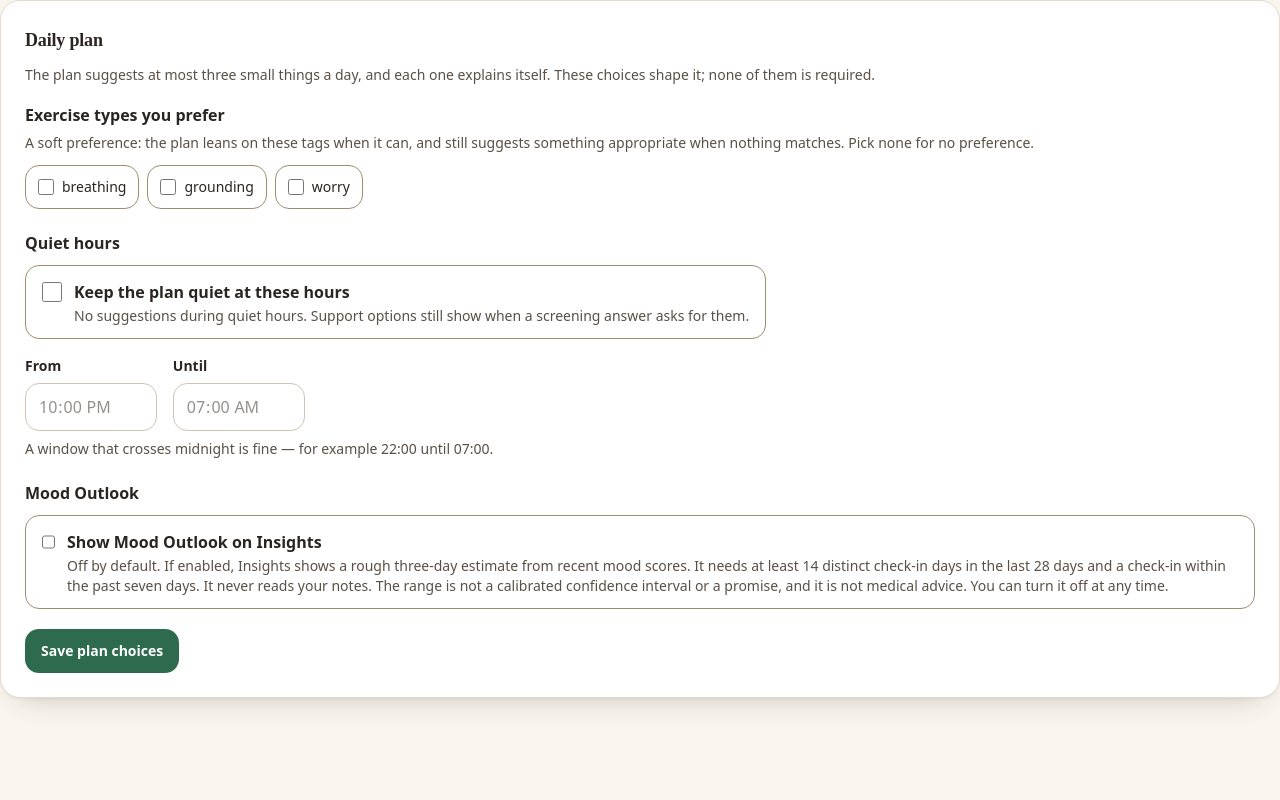
PlanSettingsSection › offers exactly the catalogue's tags and round-trips a choice
The image size is (1280, 800).
Expected: the checkbox with test id "plan-tag-grounding" is shown, [160,178,176,194]
Expected: the checkbox with test id "plan-tag-worry" is shown, [288,178,304,194]
Click the checkbox with test id "plan-tag-breathing": [46, 186] box [38,178,54,194]
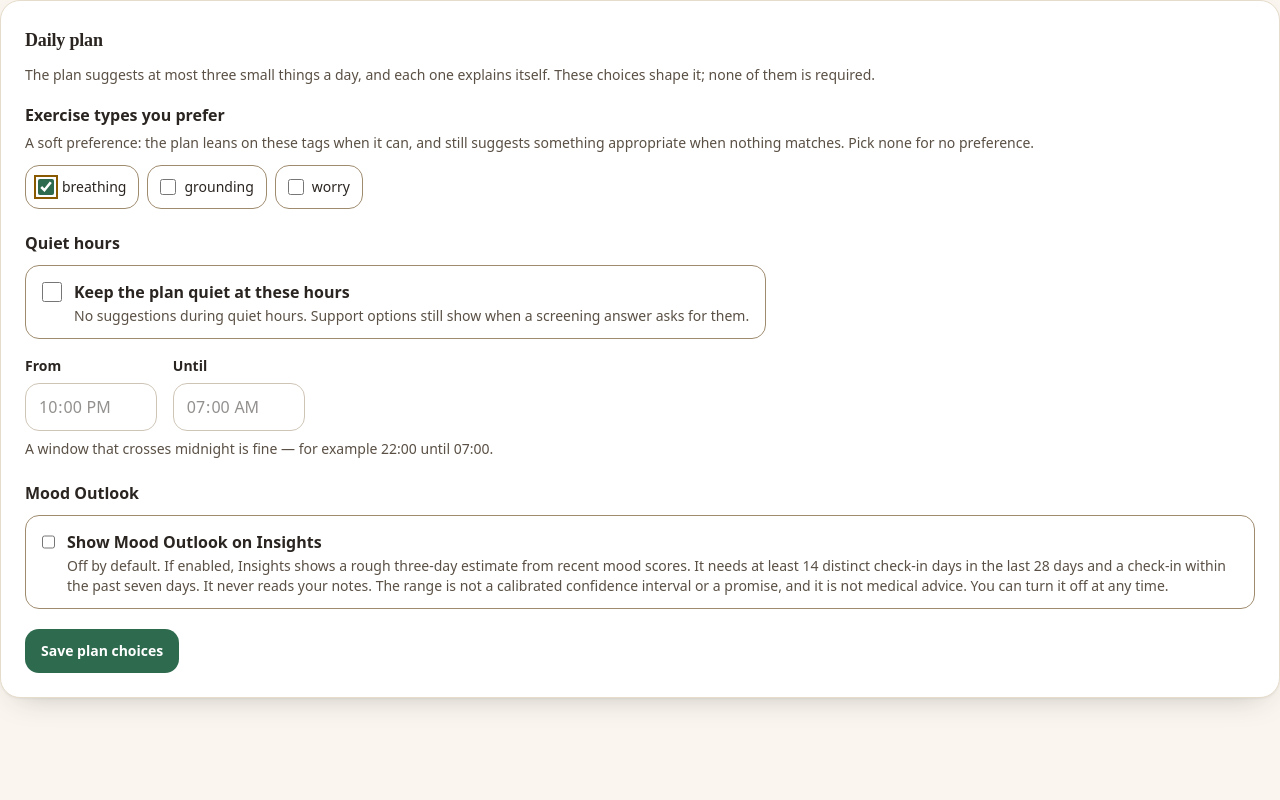
Click the button "Save plan choices": [102, 650] box [25,628,179,672]
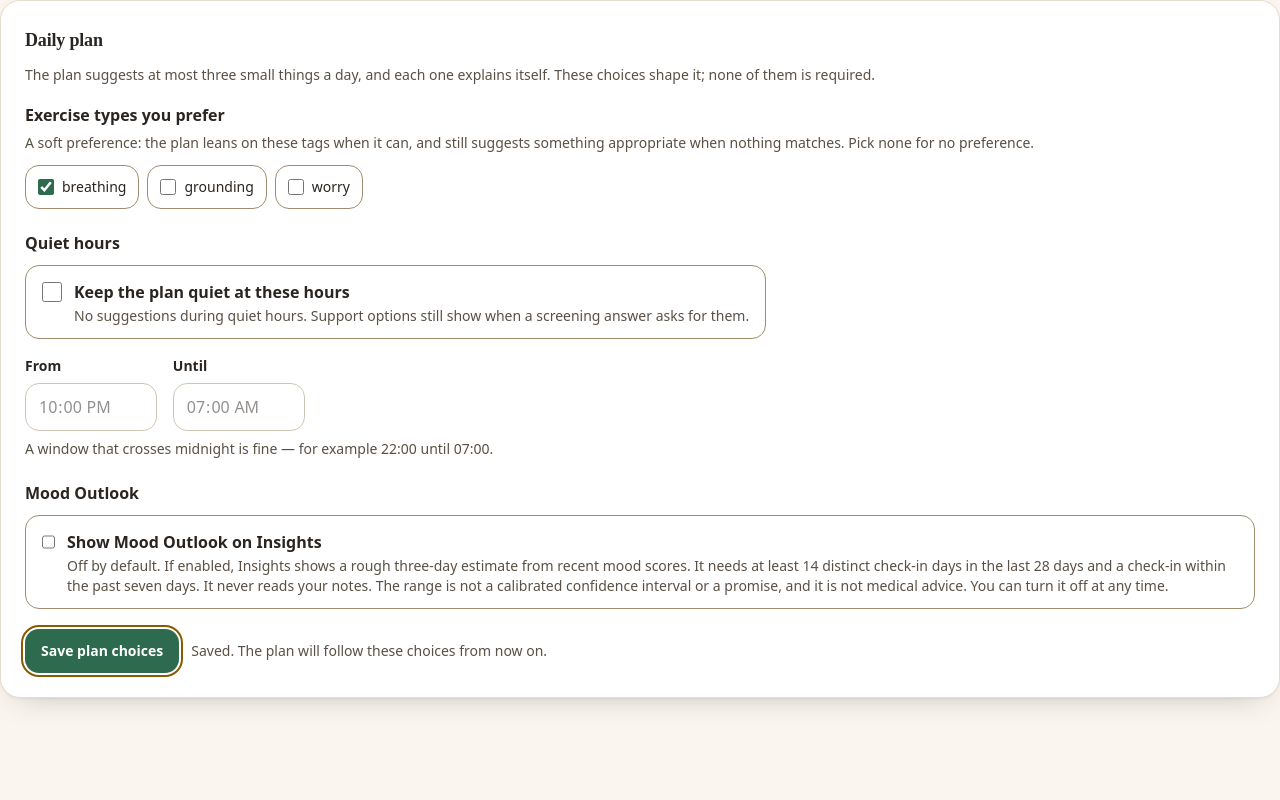
Expected: the message shows "Saved", [191,640,547,660]
